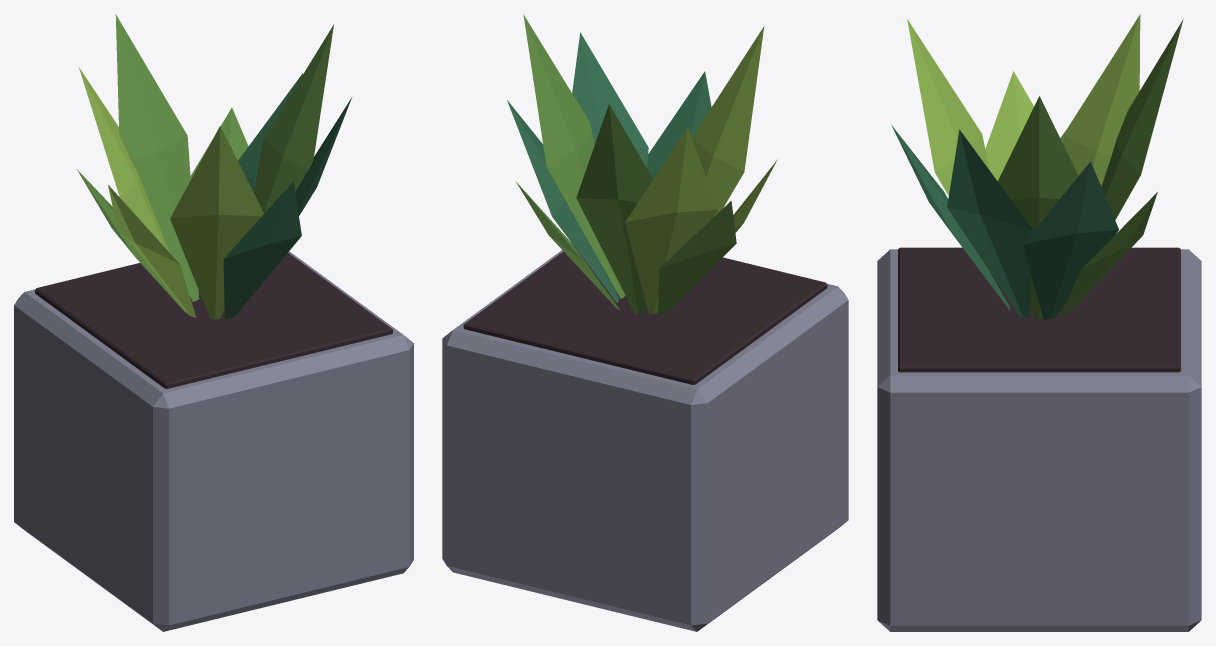
Rendered from leaf-planter.glb.
3 views of the same model, side by side, from view 1: azimuth 30°, elevation 25°; view 2: azimuth 150°, elevation 25°; view 3: azimuth 270°, elevation 25° (orthographic). The views are drawn at different scales.
Parts seen in each view (by area): view 1: Planter, Soil, Leaf.006, Leaf.007, Leaf, Leaf.002, Leaf.001, Leaf.004, Leaf.005, Leaf.008, Leaf.009, Leaf.003; view 2: Planter, Soil, Leaf.001, Leaf.006, Leaf, Leaf.007, Leaf.009, Leaf.005, Leaf.008, Leaf.002, Leaf.003, Leaf.004; view 3: Planter, Soil, Leaf.005, Leaf.008, Leaf.001, Leaf, Leaf.007, Leaf.006, Leaf.003, Leaf.004, Leaf.002.
Part boxes in pixels (bbox=[...]): Planter: bbox=[14, 251, 413, 631]; Soil: bbox=[35, 253, 392, 388]; Leaf.006: bbox=[115, 14, 199, 301]; Leaf.007: bbox=[170, 126, 263, 319]; Leaf: bbox=[253, 24, 333, 213]; Leaf.002: bbox=[223, 181, 301, 319]; Leaf.001: bbox=[79, 67, 169, 252]; Leaf.004: bbox=[108, 185, 196, 317]; Leaf.005: bbox=[240, 97, 351, 310]; Leaf.008: bbox=[238, 73, 302, 191]; Leaf.009: bbox=[77, 169, 185, 312]; Leaf.003: bbox=[190, 108, 248, 179]; Planter: bbox=[442, 244, 848, 631]; Soil: bbox=[463, 245, 827, 384]; Leaf.001: bbox=[625, 127, 717, 314]; Leaf.006: bbox=[576, 104, 652, 313]; Leaf: bbox=[523, 14, 625, 298]; Leaf.007: bbox=[692, 26, 764, 217]; Leaf.009: bbox=[657, 201, 736, 314]; Leaf.005: bbox=[572, 32, 648, 167]; Leaf.008: bbox=[507, 100, 619, 302]; Leaf.002: bbox=[647, 71, 711, 178]; Leaf.003: bbox=[516, 182, 619, 309]; Leaf.004: bbox=[673, 159, 777, 307]; Planter: bbox=[877, 249, 1201, 631]; Soil: bbox=[898, 247, 1180, 372]; Leaf.005: bbox=[947, 129, 1033, 318]; Leaf.008: bbox=[1022, 161, 1118, 319]; Leaf.001: bbox=[1062, 14, 1140, 186]; Leaf: bbox=[998, 96, 1078, 318]; Leaf.007: bbox=[907, 19, 989, 195]; Leaf.006: bbox=[1065, 19, 1183, 303]; Leaf.003: bbox=[1060, 192, 1157, 317]; Leaf.004: bbox=[985, 71, 1033, 181]; Leaf.002: bbox=[891, 125, 1010, 310].
Bounding box in the file's own units: 0.63 × 1.15 × 0.63.
Materials: 1 (1 with a texture image).
